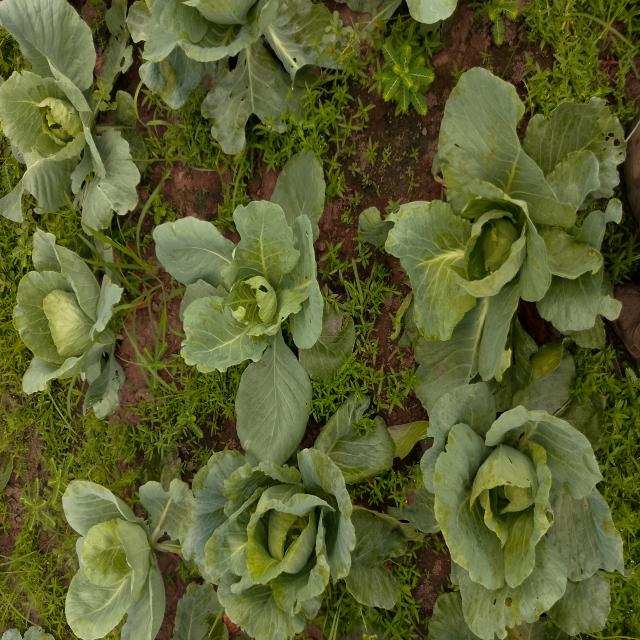Cabbage: (389, 80, 619, 379), (148, 397, 409, 640), (145, 171, 363, 437), (418, 386, 625, 640), (140, 0, 357, 149), (0, 2, 138, 220), (4, 236, 133, 417), (58, 486, 190, 640)
